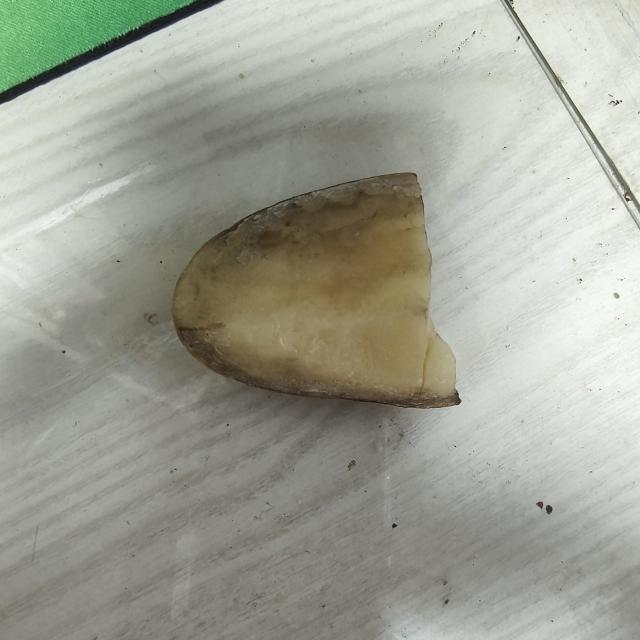-Kitchen waste - potato-: (174, 170, 471, 416)
